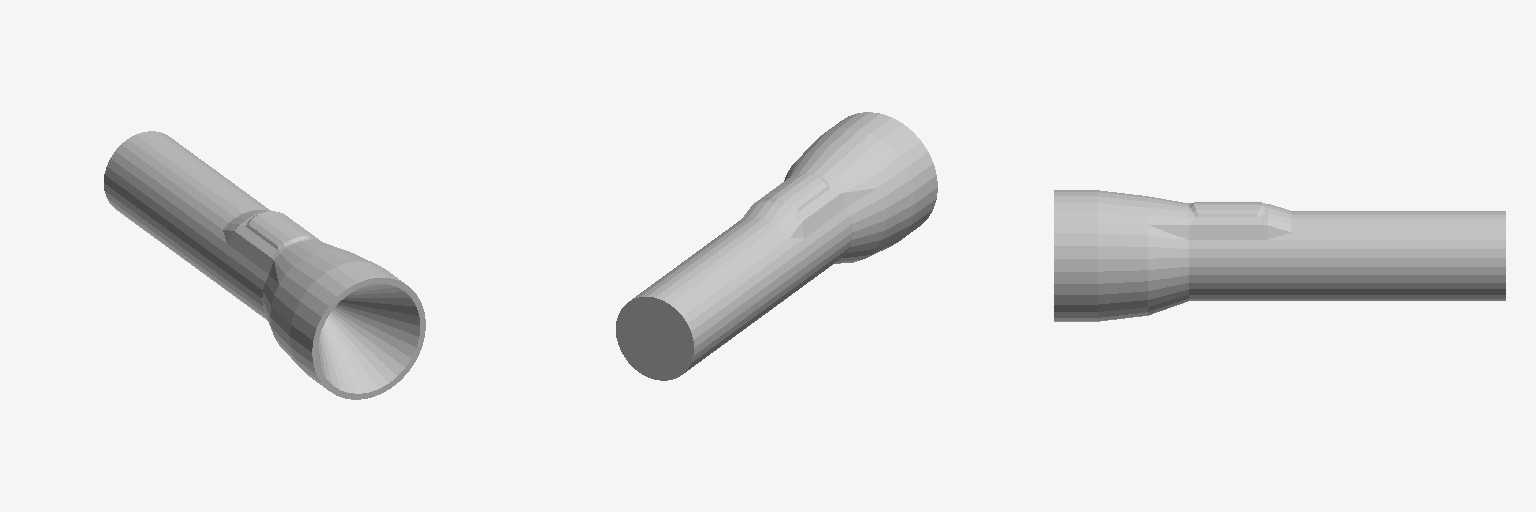
The model's file is flashlight.obj.
3 renders of one model, left to right at view 1: azimuth 30°, elevation 25°; view 2: azimuth 150°, elevation 25°; view 3: azimuth 270°, elevation 25°, orthographic.
Parts seen in each view (by area): view 1: flashlight; view 2: flashlight; view 3: flashlight.
Part boxes in pixels (x1,y1,x2,y2): flashlight: (104, 131, 425, 399); flashlight: (616, 112, 937, 380); flashlight: (1054, 190, 1505, 321).
Size of the model in its own units: 2.9 by 2.9 by 9.98.